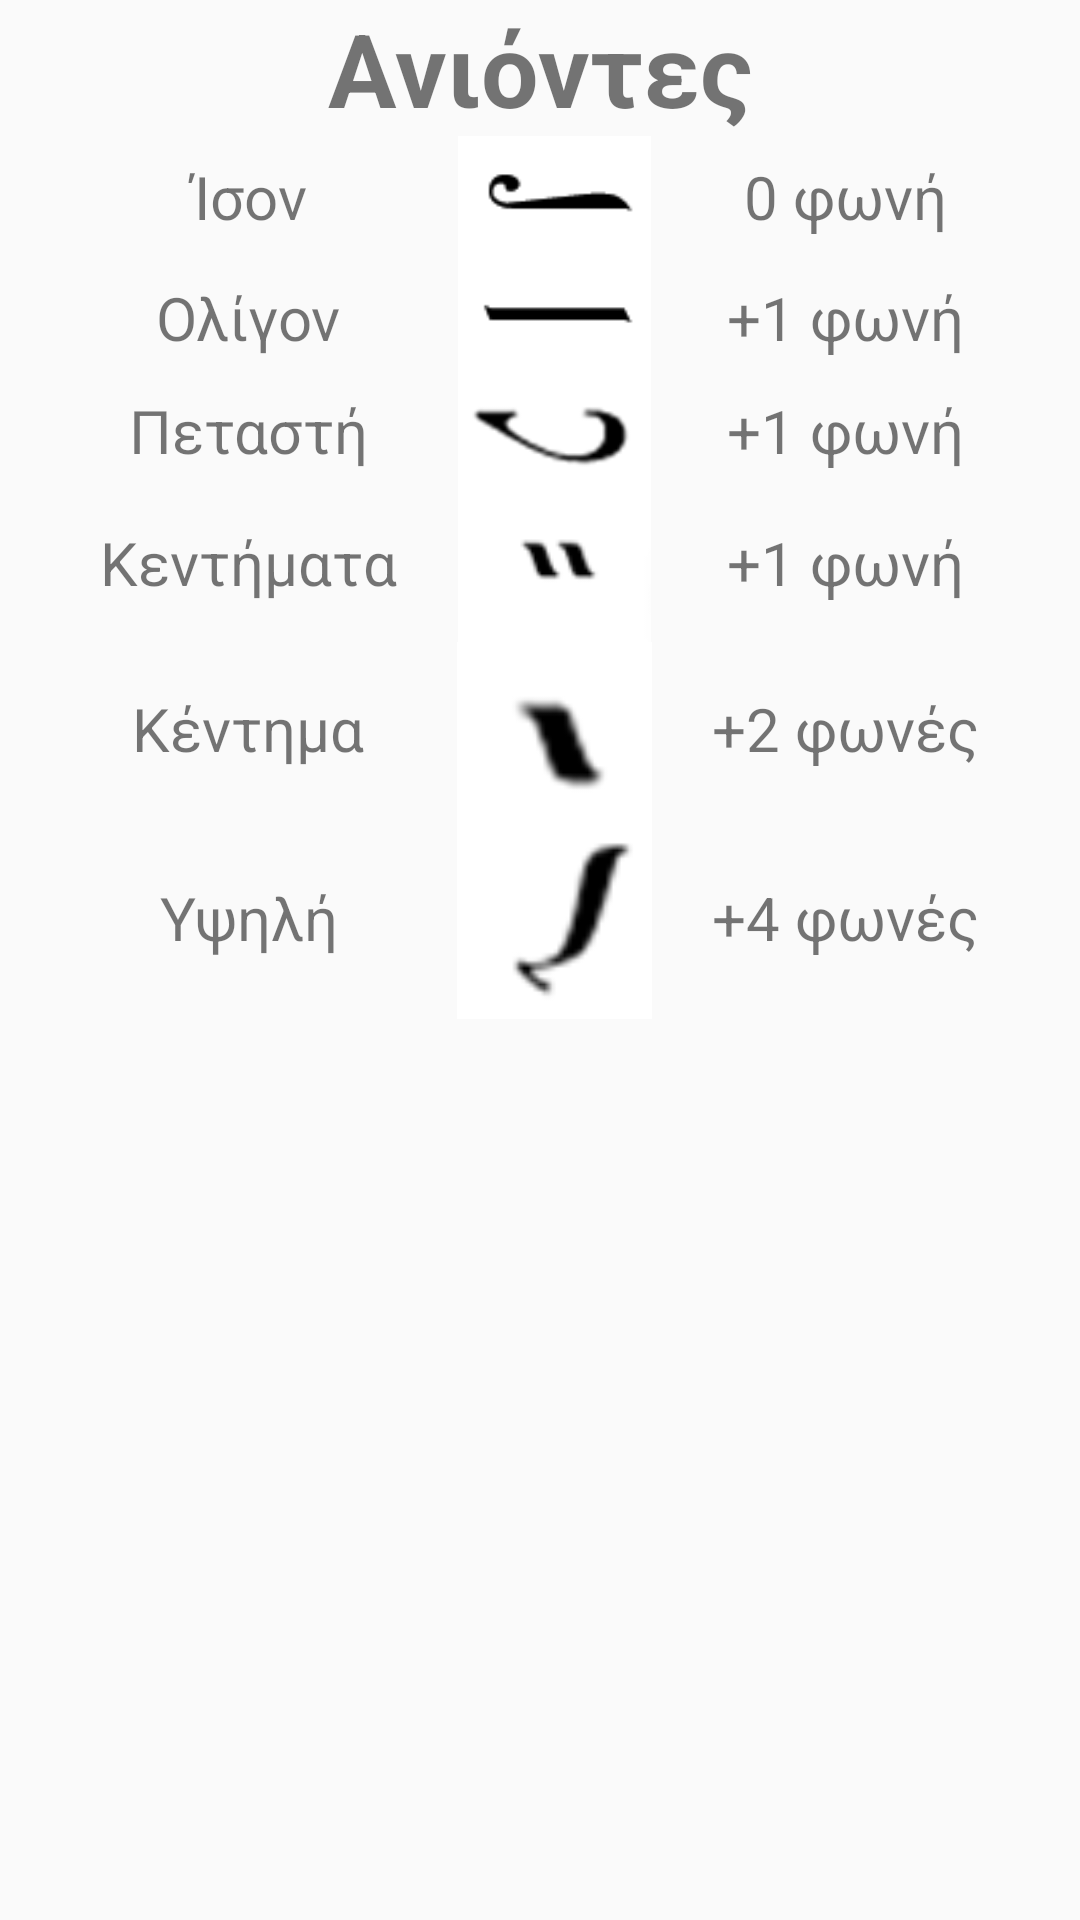

Screen size 1080*1920. Icon name, then its center in pixels as (x,y):
embroideries: (558,559)
embroidery: (560,744)
flyer: (551,436)
high: (572,919)
ison: (560,193)
